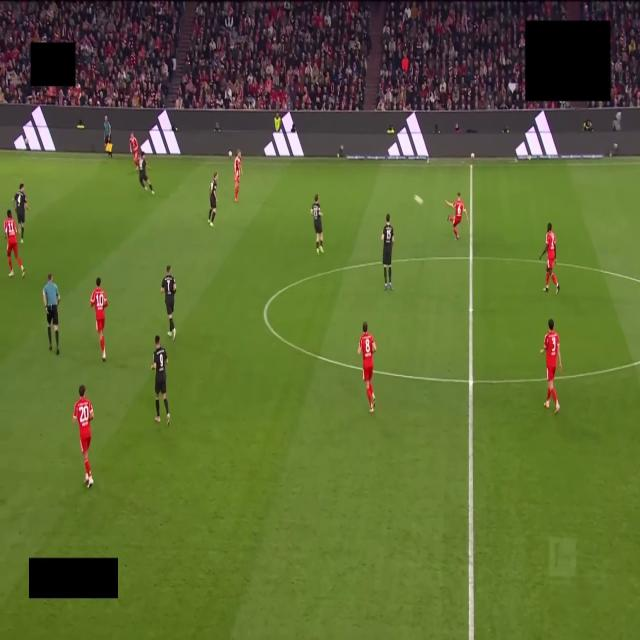ball: (414, 195, 423, 204)
player: (73, 385, 93, 487), (541, 320, 561, 413), (358, 322, 376, 412), (152, 336, 170, 423), (90, 278, 107, 361), (540, 223, 559, 294), (4, 210, 24, 277), (161, 265, 176, 340), (446, 192, 468, 239), (382, 215, 394, 290), (14, 184, 28, 243), (311, 194, 323, 255), (138, 152, 154, 194), (209, 172, 217, 227), (234, 150, 242, 201), (130, 132, 139, 167)
referee: (43, 274, 60, 354)
